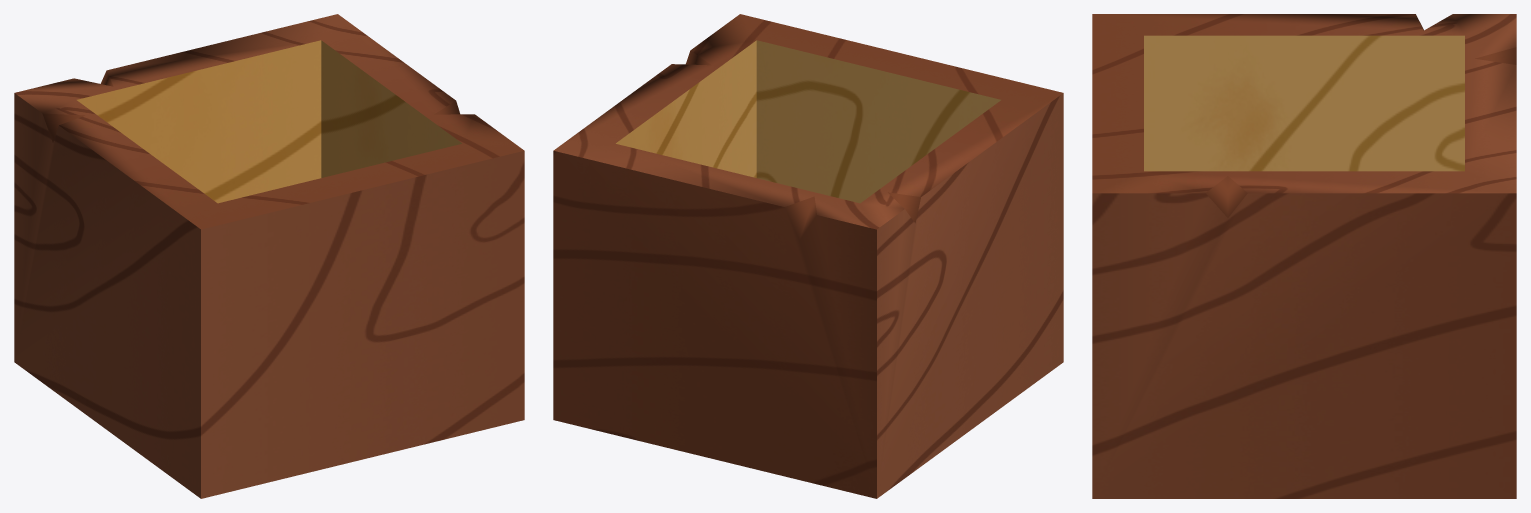
3 views of the same model, side by side, from view 1: azimuth 30°, elevation 25°; view 2: azimuth 150°, elevation 25°; view 3: azimuth 270°, elevation 25° (orthographic). The views are drawn at different scales.
Visible parts, largest first — view 1: Box; view 2: Box; view 3: Box.
Part boxes in pixels (x1,y1,x2,y2): Box: [14, 14, 524, 498]; Box: [553, 14, 1063, 498]; Box: [1092, 14, 1516, 498].
Bounding box in the file's own units: 82.82 × 65.9 × 82.82.
1 material, 1 textured.
